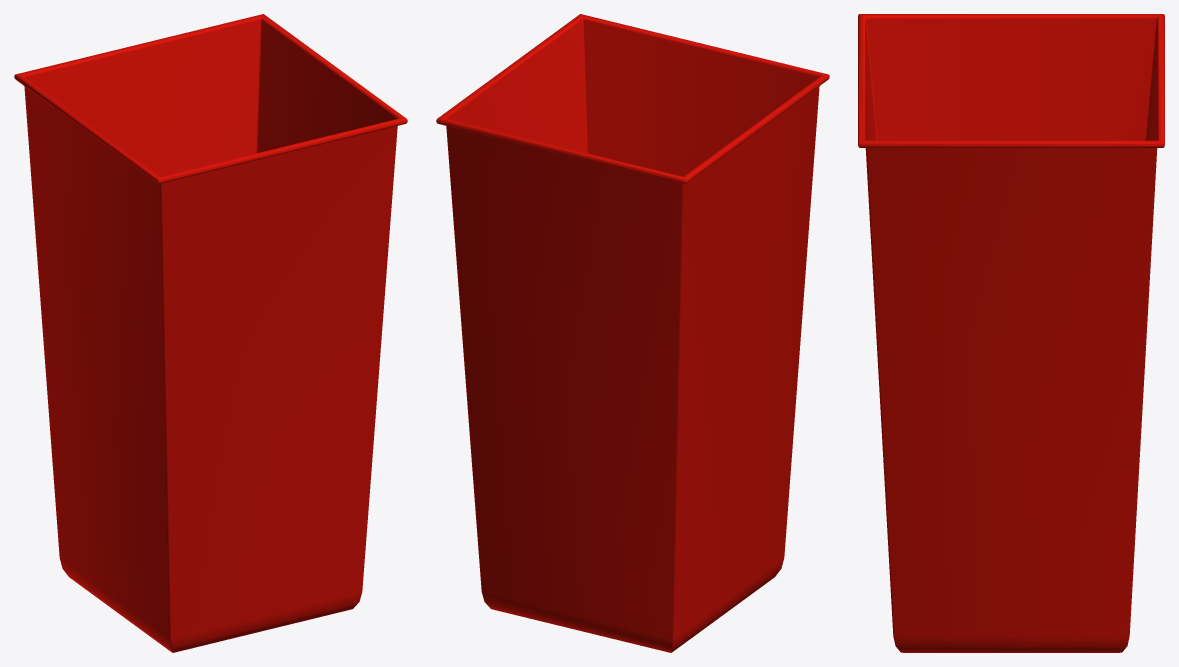
The model's file is Bin.fbx.
3 renders of one model, left to right at view 1: azimuth 30°, elevation 25°; view 2: azimuth 150°, elevation 25°; view 3: azimuth 270°, elevation 25°, orthographic. The views are drawn at different scales.
Visible parts, largest first — view 1: Cube; view 2: Cube; view 3: Cube.
Part boxes in pixels (bbox=[...]): Cube: bbox=[14, 14, 407, 652]; Cube: bbox=[436, 14, 829, 652]; Cube: bbox=[858, 14, 1164, 652].
Bounding box in the file's own units: 210 × 400 × 210.
